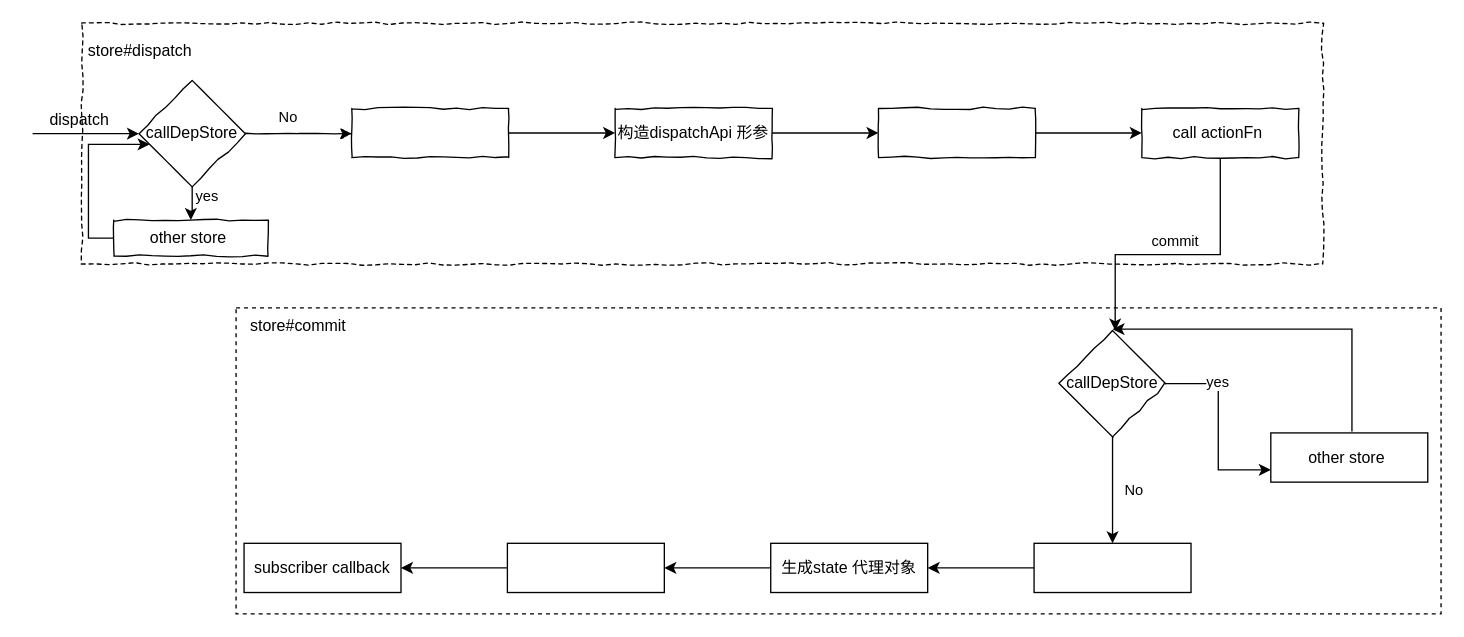
This 1464x637 diagram has some shape labels left out. Here are the shapes that lost their labels. From the top down, the centre of each, then its label:
(x=429, y=132): 获取actionsFn
(x=956, y=132): actionListener callback
(x=585, y=567): call mutationFn
(x=1112, y=567): 获取mutationsFn
